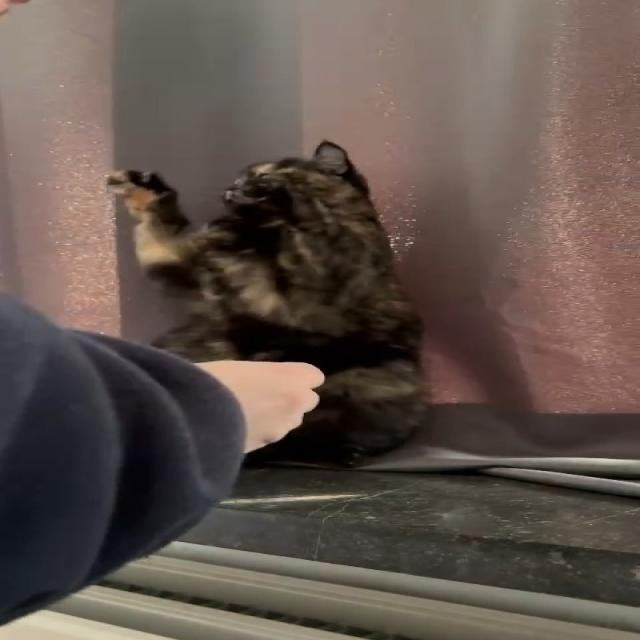authorized: (104, 138, 429, 469)
